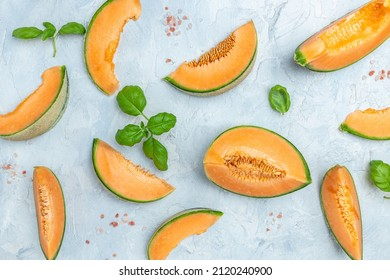Melon: (146, 17, 267, 113), (275, 1, 390, 75), (80, 130, 174, 217), (111, 199, 225, 270), (72, 1, 150, 96), (1, 62, 72, 157), (14, 158, 77, 265), (325, 158, 364, 270)
